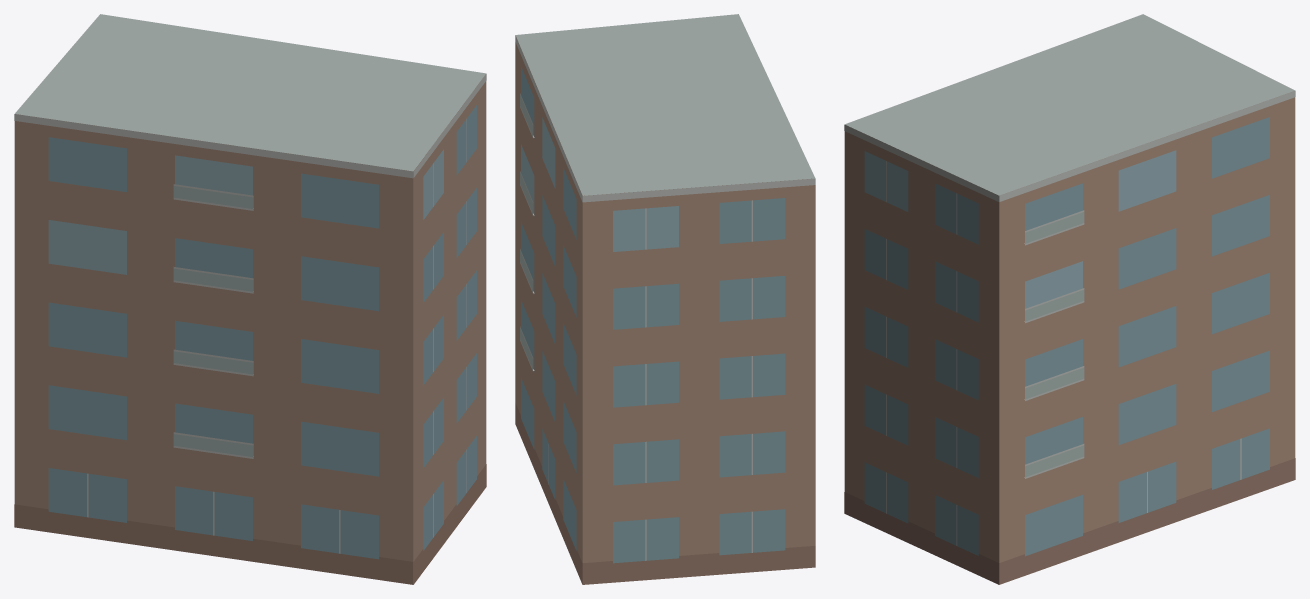
The model's file is survey-upis-32940019.glb.
The picture shows the model from 3 angles, left to right: view 1: azimuth 30°, elevation 25°; view 2: azimuth 150°, elevation 25°; view 3: azimuth 270°, elevation 25°; orthographic projection. The views are drawn at different scales.
Visible parts, largest first — view 1: survey-upis-32940019.tmp; view 2: survey-upis-32940019.tmp; view 3: survey-upis-32940019.tmp.
Boxes of the visible parts, left/top/right/bottom form: survey-upis-32940019.tmp: left=14, top=14, right=486, bottom=584; survey-upis-32940019.tmp: left=515, top=14, right=815, bottom=584; survey-upis-32940019.tmp: left=844, top=14, right=1295, bottom=584.
Size of the model in its own units: 14.52 by 14.5 by 15.24.
